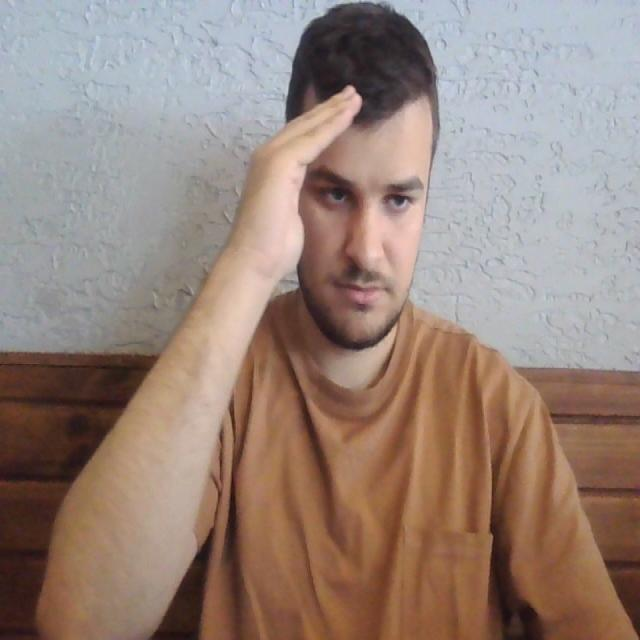Merhaba: (225, 72, 372, 295)
